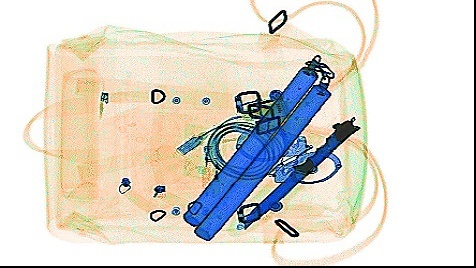handcuffs: (234, 118, 341, 182)
knife: (242, 114, 360, 229)
lighter: (198, 141, 219, 194)
